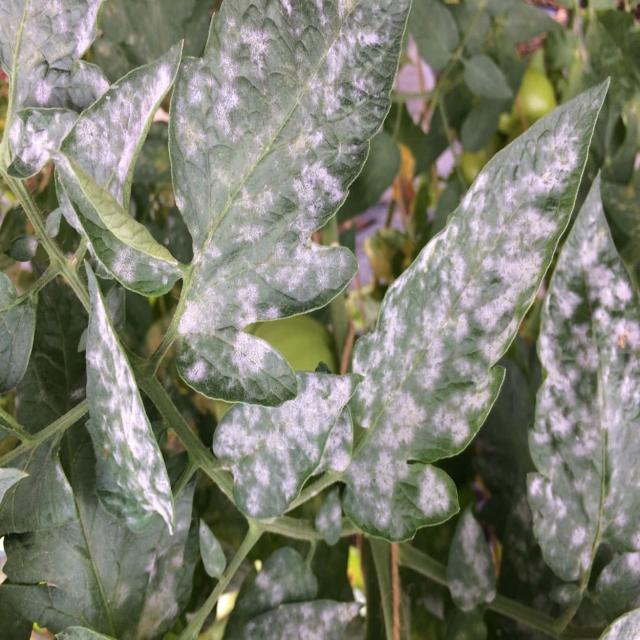Powdery Mildew: (2, 2, 636, 637), (525, 171, 639, 601), (81, 257, 176, 536), (211, 368, 362, 523)
